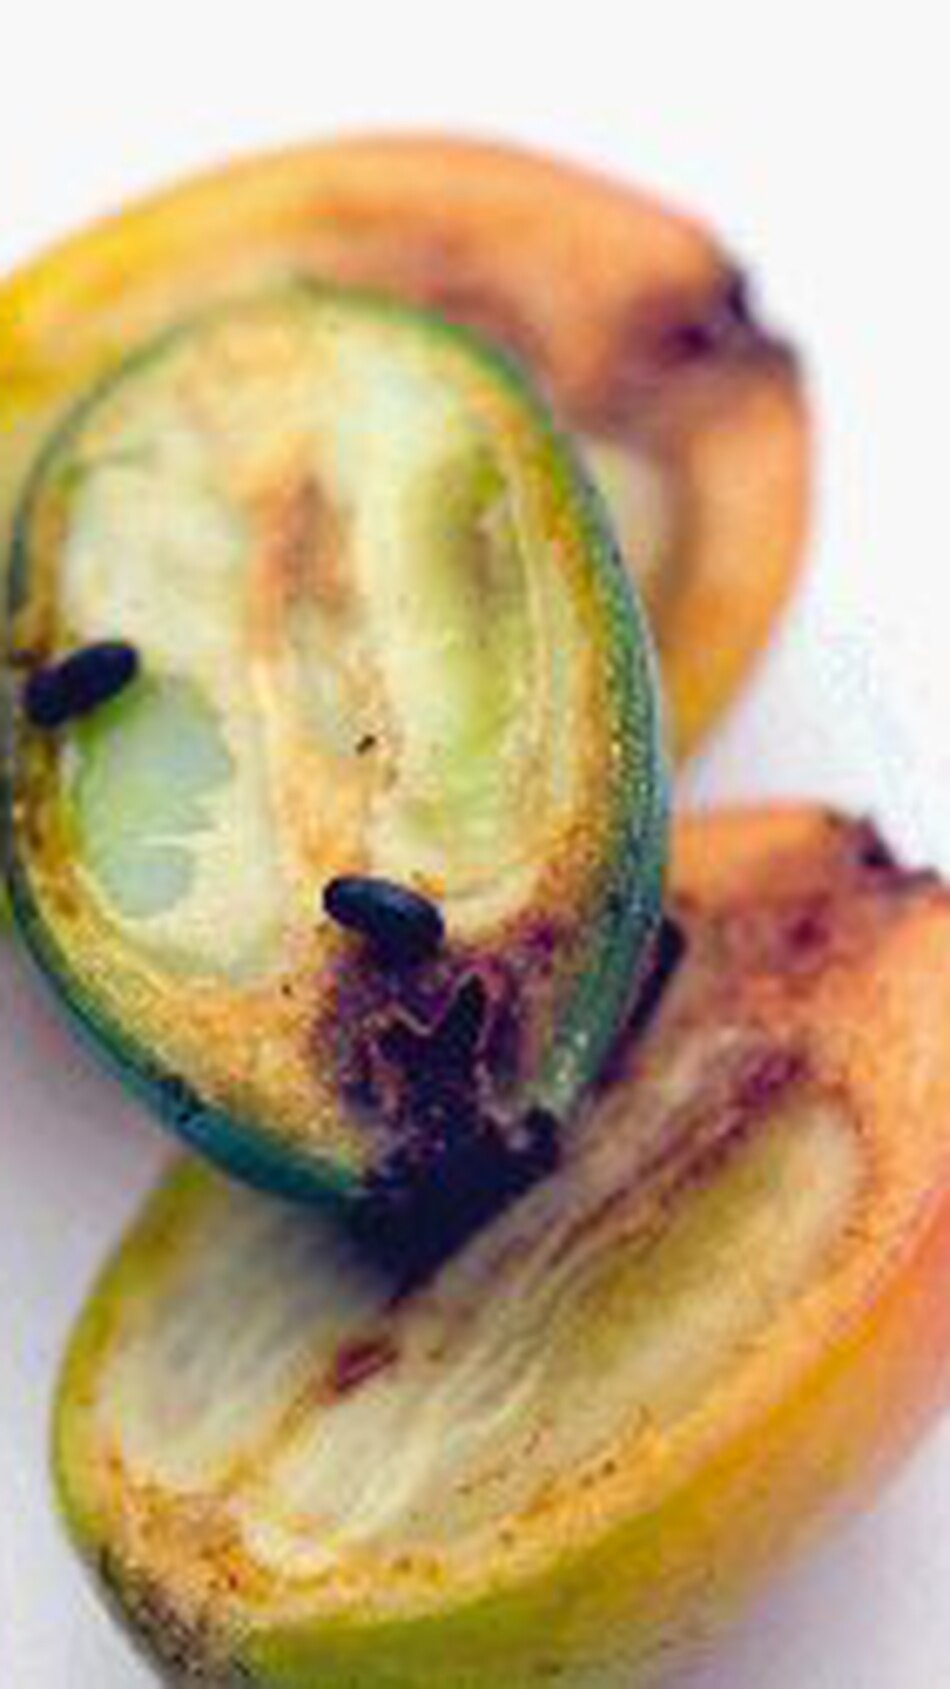broca de cafe: (17, 300, 626, 1157)
